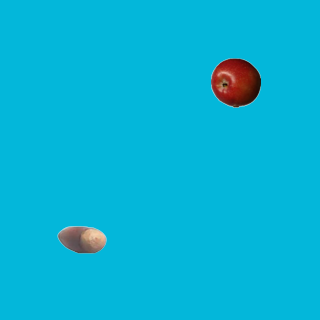Apple Braeburn: (210, 57, 260, 107)
Hazelnut: (56, 214, 106, 264)
